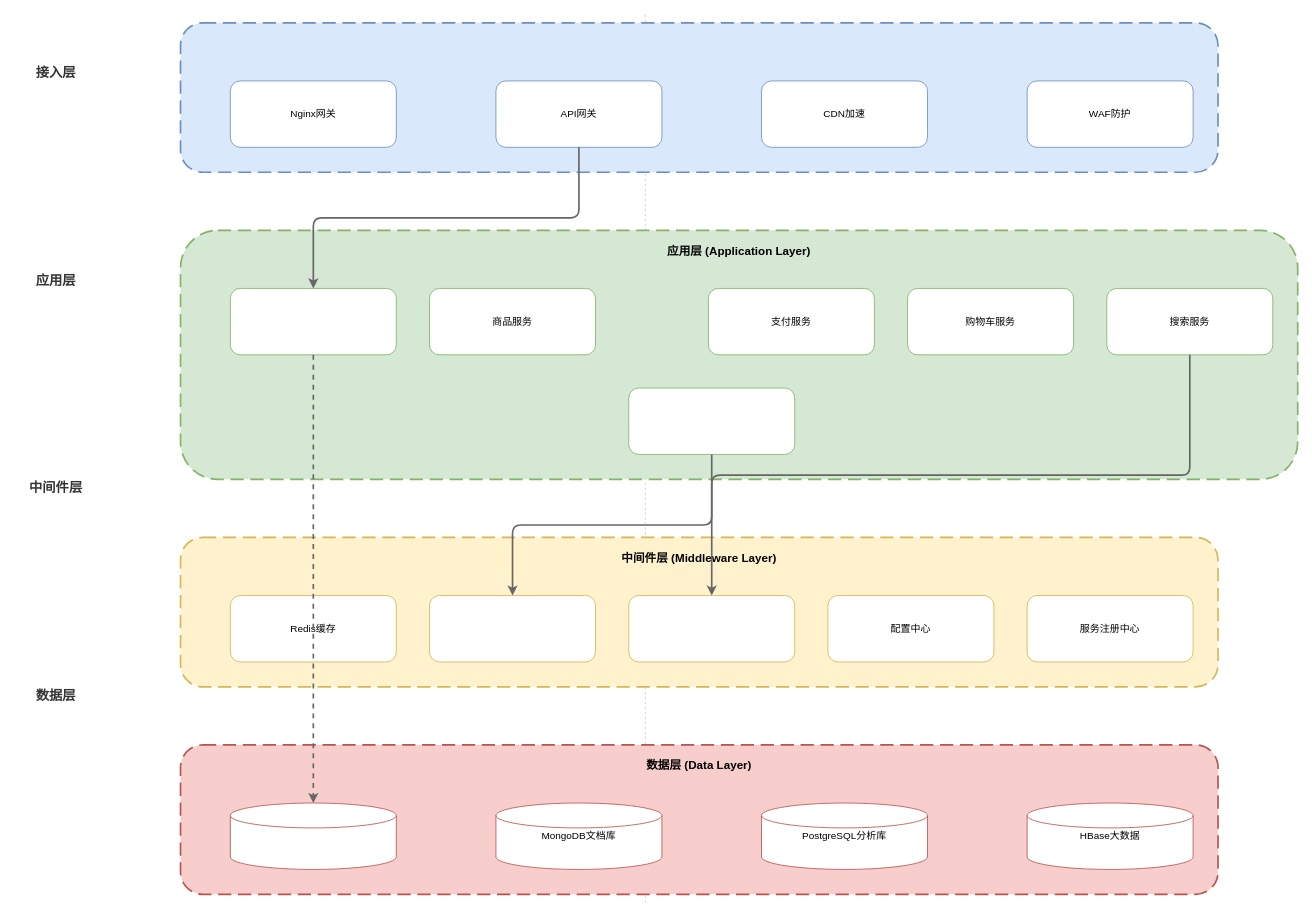
This 1312x918 diagram has some shape labels left out. Each missing label, with the box of its shape:
Elasticsearch搜索: (628, 595, 795, 662)
MySQL数据库: (229, 802, 396, 869)
RabbitMQ消息队列: (429, 595, 596, 662)
接入层 (Access Layer): (179, 22, 1218, 173)
用户服务: (229, 288, 396, 355)
订单服务: (628, 387, 795, 454)
